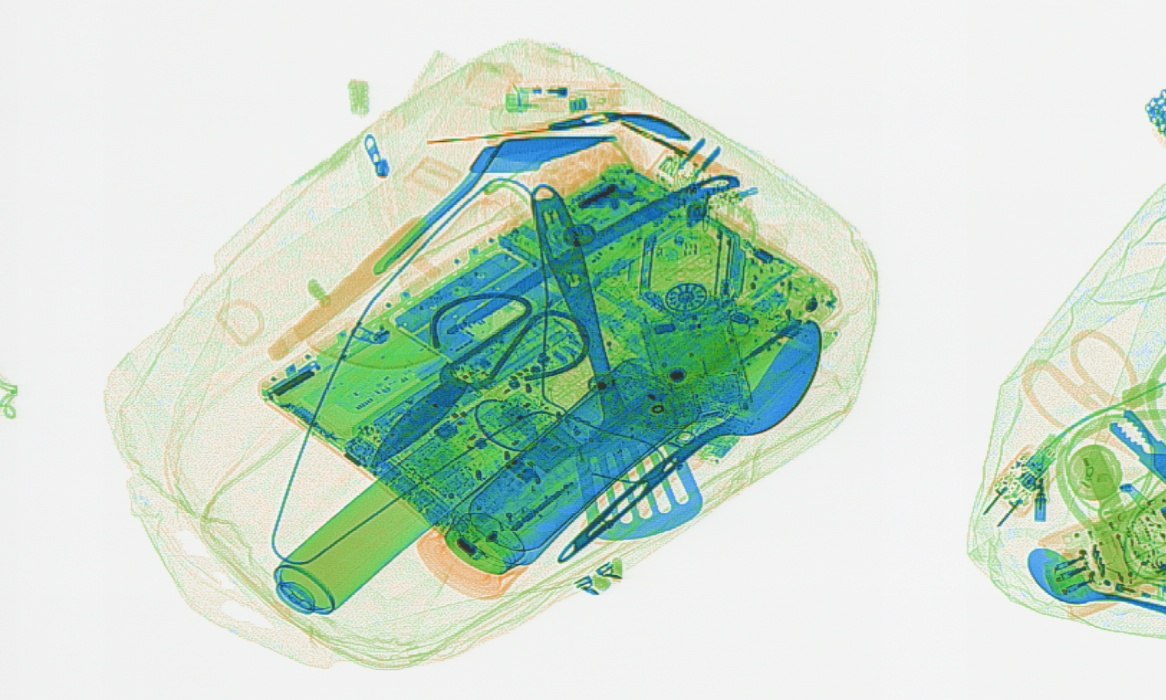lighter: (495, 73, 626, 119)
pressure: (269, 394, 544, 618)
scissors: (367, 286, 594, 469), (1017, 325, 1164, 496)
